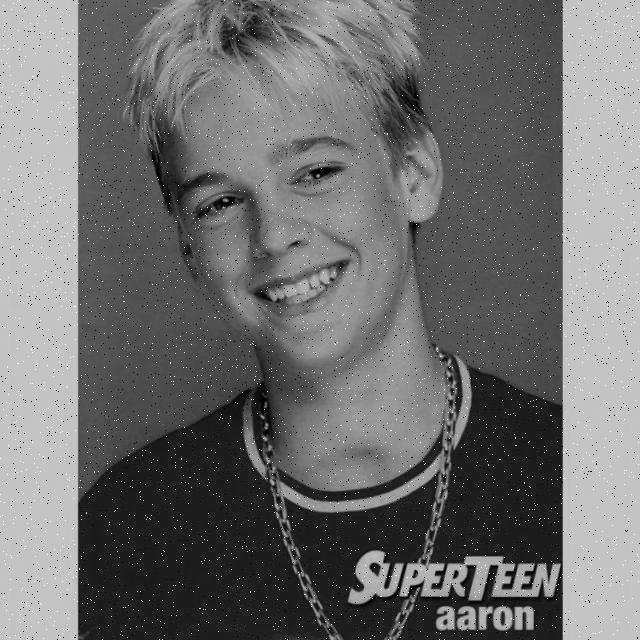real: (166, 48, 406, 368)
